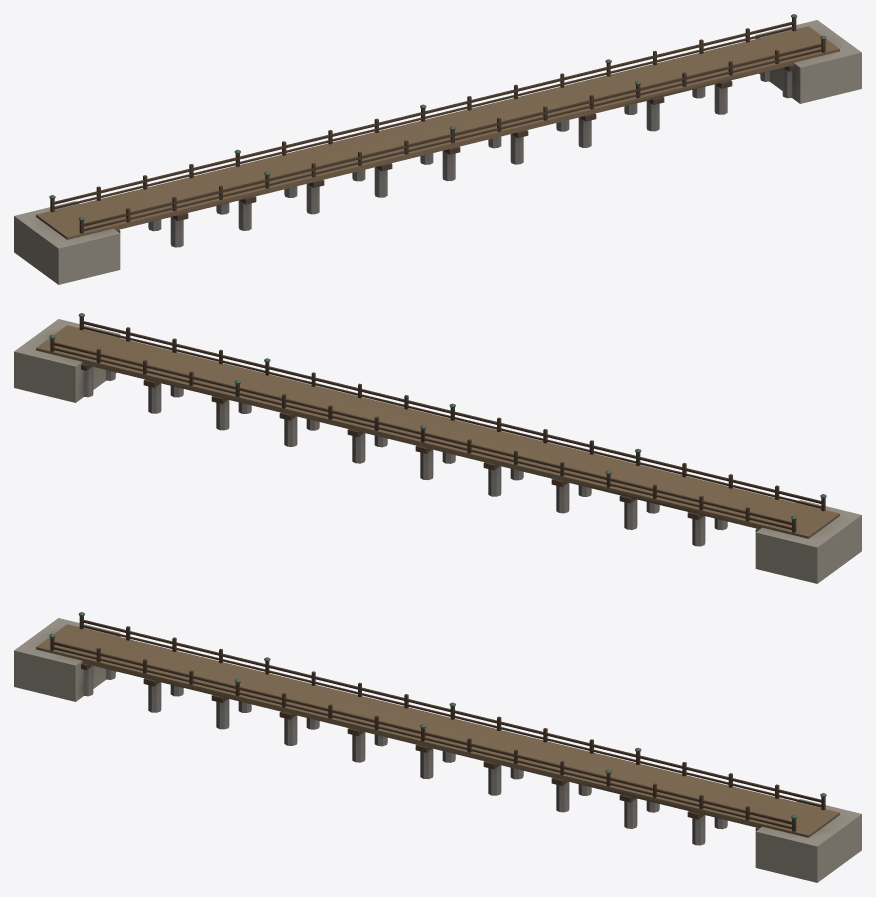
The model's file is gojo-bridge.glb.
3 renders of one model, top to bottom at view 1: azimuth 30°, elevation 25°; view 2: azimuth 150°, elevation 25°; view 3: azimuth 330°, elevation 25°, orthographic.
Visible parts, largest first — view 1: p1_deck, p2_railing, p0_piers; view 2: p1_deck, p2_railing, p0_piers; view 3: p1_deck, p2_railing, p0_piers.
Part boxes in pixels (x1,y1,x2,y2): p1_deck: (14, 20, 861, 284); p2_railing: (49, 14, 826, 233); p0_piers: (116, 65, 794, 247); p1_deck: (14, 319, 861, 583); p2_railing: (49, 313, 826, 532); p0_piers: (81, 364, 759, 546); p1_deck: (14, 618, 861, 882); p2_railing: (49, 612, 826, 831); p0_piers: (81, 663, 759, 845).
Bounding box in the file's own units: 104 × 6.85 × 10.
